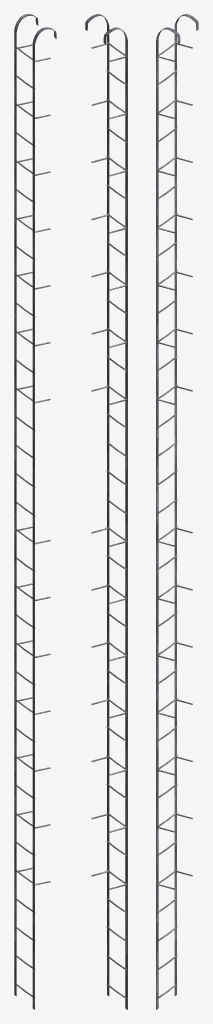
Rendered from Stairs_Metal.FBX.
3 renders of one model, left to right at view 1: azimuth 30°, elevation 25°; view 2: azimuth 210°, elevation 25°; view 3: azimuth 330°, elevation 25°, orthographic.
Parts seen in each view (by area): view 1: Stairs_Metal; view 2: Stairs_Metal; view 3: Stairs_Metal.
Part boxes in pixels (x1,y1,x2,y2): Stairs_Metal: (14,14,56,1009); Stairs_Metal: (85,14,127,1009); Stairs_Metal: (156,14,198,1009).
Size of the model in its own units: 35.82 by 58.03 by 1524.
